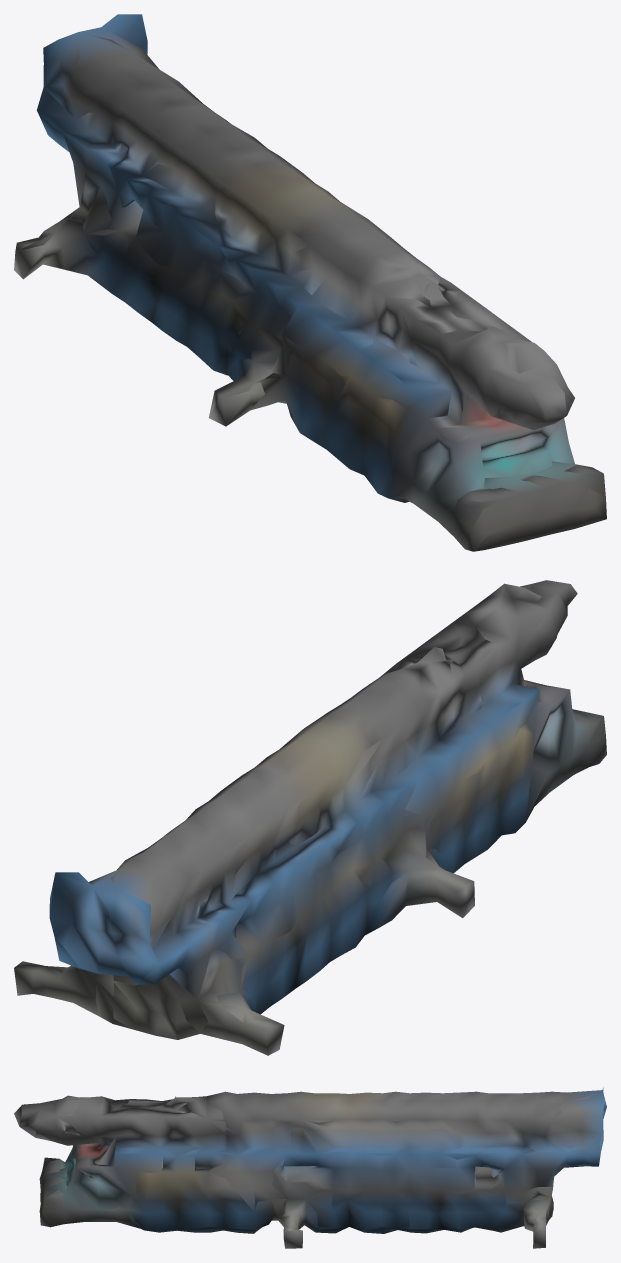
Rendered from nuclear_icbm.glb.
3 renders of one model, top to bottom at view 1: azimuth 30°, elevation 25°; view 2: azimuth 150°, elevation 25°; view 3: azimuth 270°, elevation 25°, orthographic. The views are drawn at different scales.
Visible parts, largest first — view 1: nuclear_icbm; view 2: nuclear_icbm; view 3: nuclear_icbm.
Boxes of the visible parts, x1,y1,x2,y2 form: nuclear_icbm: [14, 14, 606, 551]; nuclear_icbm: [14, 580, 606, 1055]; nuclear_icbm: [14, 1087, 606, 1248].
Bounding box in the file's own units: 2.13 × 1.52 × 6.48.
